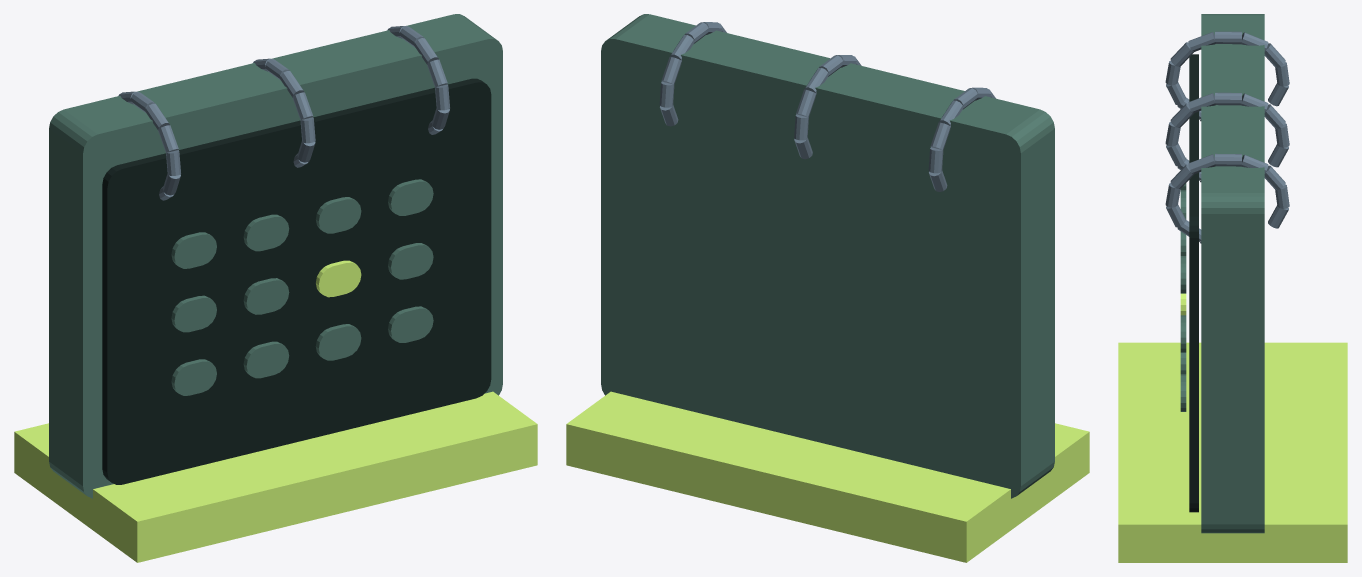
Rendered from deskcalendar.glb.
3 views of the same model, side by side, from view 1: azimuth 30°, elevation 25°; view 2: azimuth 150°, elevation 25°; view 3: azimuth 270°, elevation 25° (orthographic). The views are drawn at different scales.
Parts seen in each view (by area): view 1: calendar page, binding board, rear foot, day 1, day 9, day 4, marked date, day 3, day 5, day 11, day 0, day 7 (+3 smaller); view 2: binding board, rear foot; view 3: rear foot, binding board, calendar page, loop16, loop06, loop26, loop15, loop25, loop05, loop04, loop14, loop24 (+3 smaller).
Part boxes in pixels (box(x1,y1,x2,y2)): calendar page: box(102, 78, 491, 484); binding board: box(49, 14, 502, 498); rear foot: box(14, 391, 537, 562); day 1: box(243, 214, 289, 251); day 9: box(243, 341, 289, 378); day 4: box(171, 295, 216, 332); marked date: box(316, 260, 361, 297); day 3: box(388, 179, 433, 215); day 5: box(243, 278, 289, 314); day 11: box(388, 306, 433, 342); day 0: box(171, 232, 216, 268); day 7: box(388, 243, 433, 279); binding board: box(601, 14, 1054, 498); rear foot: box(566, 391, 1089, 562); rear foot: box(1118, 342, 1347, 562); binding board: box(1201, 14, 1264, 533); calendar page: box(1189, 54, 1198, 512); loop16: box(1215, 92, 1241, 105); loop06: box(1215, 31, 1241, 44); loop26: box(1215, 153, 1241, 166); loop15: box(1188, 93, 1215, 113); loop25: box(1188, 154, 1215, 174); loop05: box(1188, 32, 1215, 52); loop04: box(1170, 42, 1193, 66); loop14: box(1170, 103, 1193, 127); loop24: box(1170, 164, 1193, 188).
Size of the model in its own units: 1.28 by 1.18 by 0.65.
